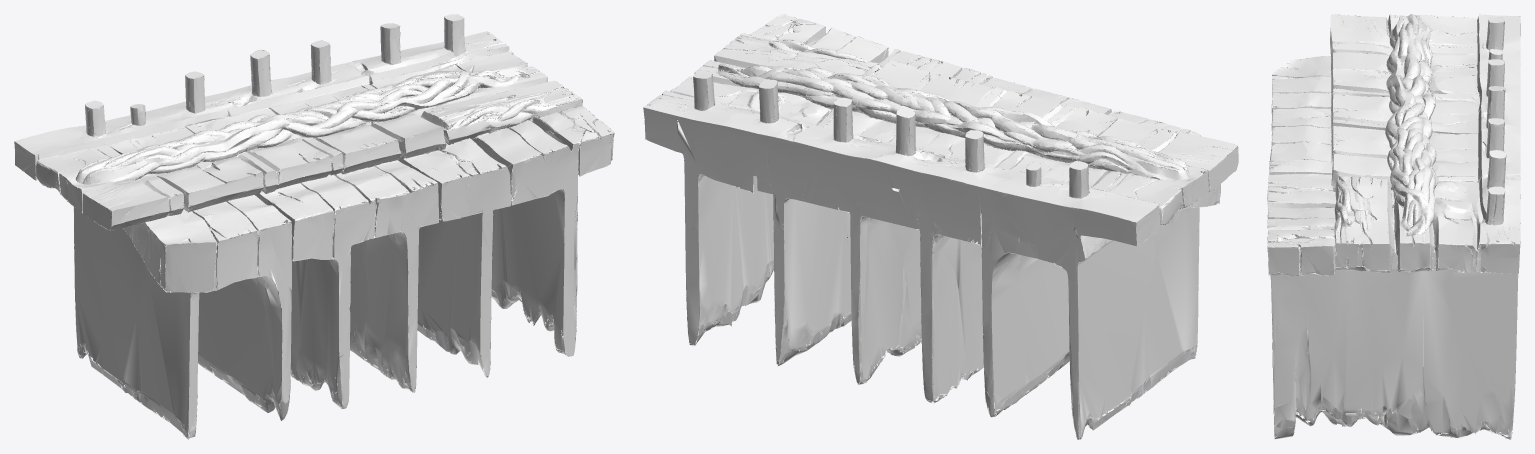
The model's file is beach-wooden-pier.glb.
3 views of the same model, side by side, from view 1: azimuth 30°, elevation 25°; view 2: azimuth 150°, elevation 25°; view 3: azimuth 270°, elevation 25° (orthographic). The views are drawn at different scales.
Parts seen in each view (by area): view 1: model; view 2: model; view 3: model.
Part boxes in pixels (x1,y1,x2,y2): model: [14, 14, 614, 439]; model: [643, 14, 1238, 439]; model: [1267, 14, 1520, 439].
Bounding box in the file's own units: 1.89 × 1.03 × 0.9054.
1 material, 1 textured.
